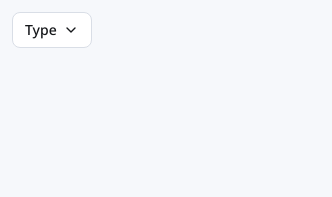
it: FilterMenu › puts the choice in the URL and goes back to the first page
The image size is (332, 197).
Click the button "Type". click: (52, 30)
box: [12,12,92,48]
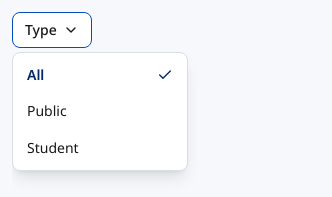
Click the menu item "Student". click: (53, 147)
box: [27,138,79,157]
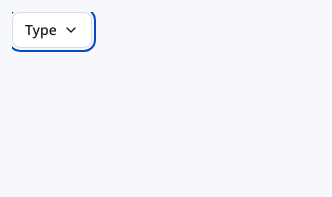
Now the menu is gone
